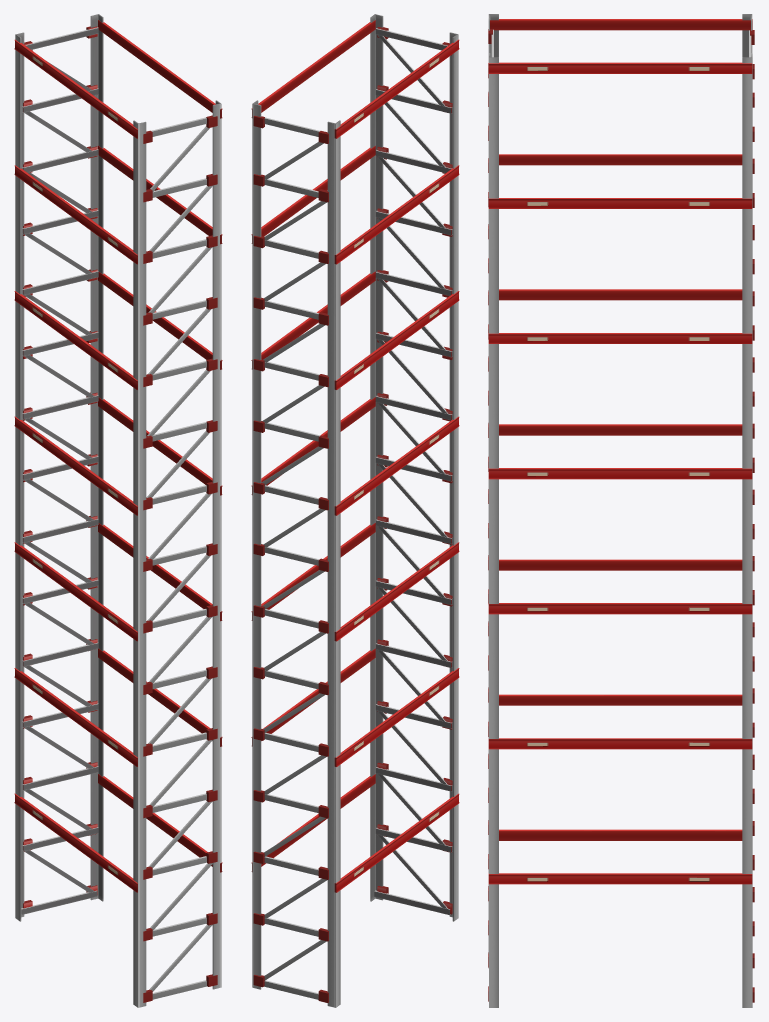
File: Rag.fbx
3 renders of one model, left to right at view 1: azimuth 30°, elevation 25°; view 2: azimuth 150°, elevation 25°; view 3: azimuth 270°, elevation 25°, orthographic. The views are drawn at different scales.
Visible parts, largest first — view 1: Rag; view 2: Rag; view 3: Rag.
Boxes of the visible parts, <box> form: Rag: <box>14,14,222,1007</box>; Rag: <box>251,14,459,1007</box>; Rag: <box>488,14,754,1007</box>.
Bounding box in the file's own units: 13.8 × 136 × 34.67.
Materials: 1 (1 with a texture image).
